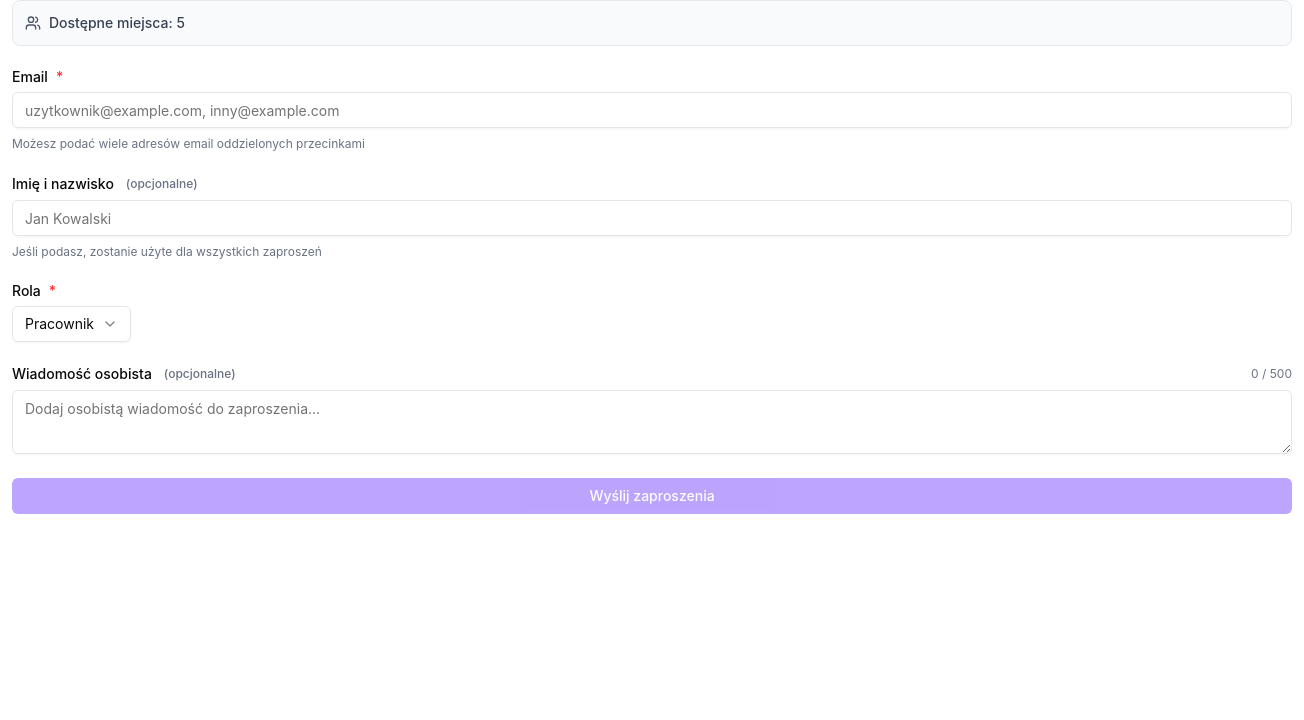
Test case: InvitationForm › Email Input › should show email count badge when multiple emails entered
The width and height of the screenshot is (1304, 720).
Type "user1@example.com, user2@example.com, user3@example.com" into the field labelled "Email *" at (652, 110), box [12, 92, 1292, 128]
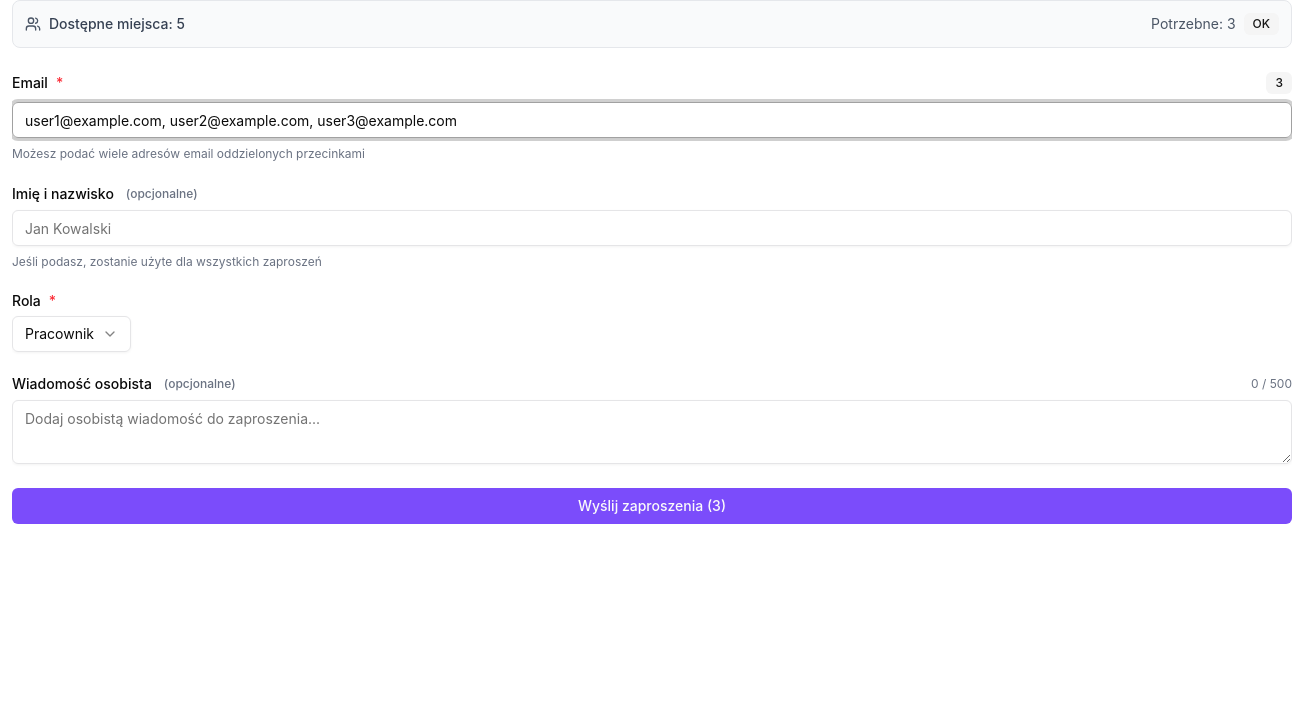
Expected: the text "3" is shown, [1266, 72, 1292, 94]
